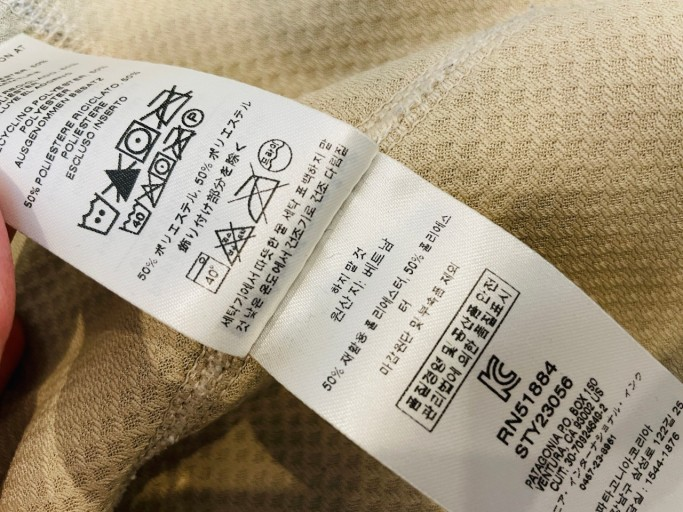KR_dry_clean: (250, 133, 299, 179)
KR_no_bleach: (201, 217, 265, 272)
KR_no_iron: (225, 162, 292, 234)
KR_wash_40: (180, 245, 237, 300)
